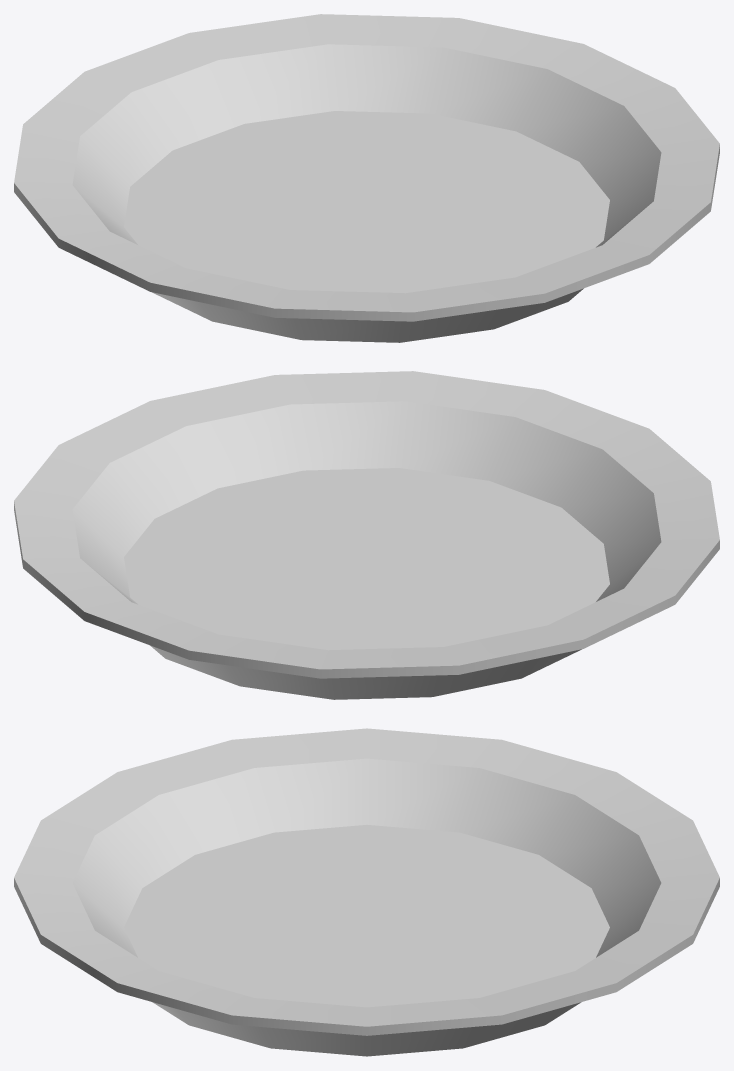
File: Plate.fbx
The picture shows the model from 3 angles, top to bottom: view 1: azimuth 30°, elevation 25°; view 2: azimuth 150°, elevation 25°; view 3: azimuth 270°, elevation 25°; orthographic projection.
Visible parts, largest first — view 1: SoupPlate_01; view 2: SoupPlate_01; view 3: SoupPlate_01.
Boxes of the visible parts, left/top/right/bottom form: SoupPlate_01: left=14, top=14, right=719, bottom=342; SoupPlate_01: left=14, top=371, right=719, bottom=699; SoupPlate_01: left=14, top=728, right=719, bottom=1056.
Size of the model in its own units: 0.2089 by 0.0237 by 0.2089.
